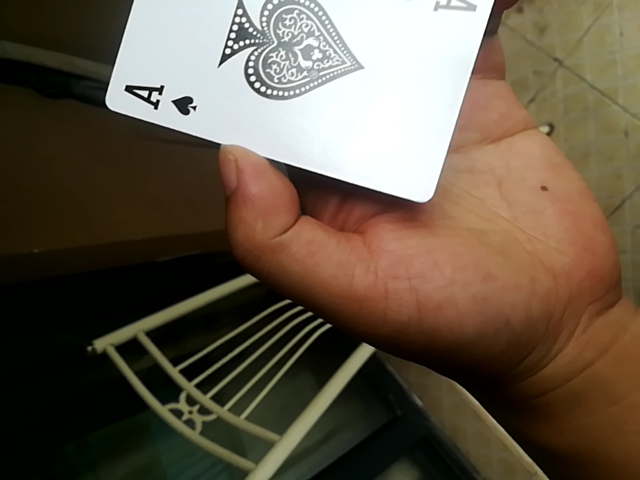ht a: (103, 0, 511, 212)
